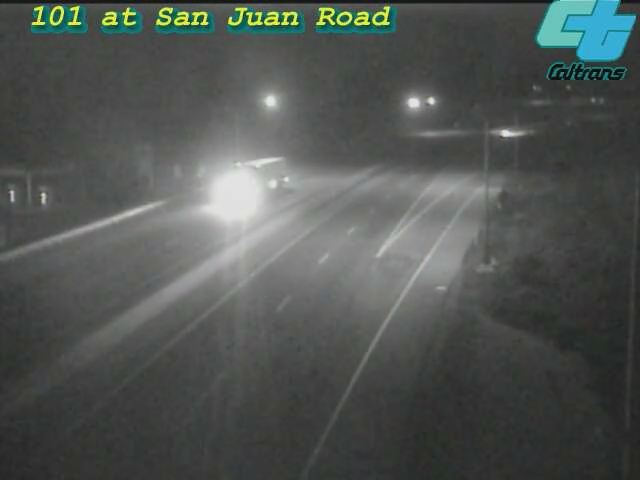vehicle: (202, 143, 282, 223), (481, 108, 531, 158)
